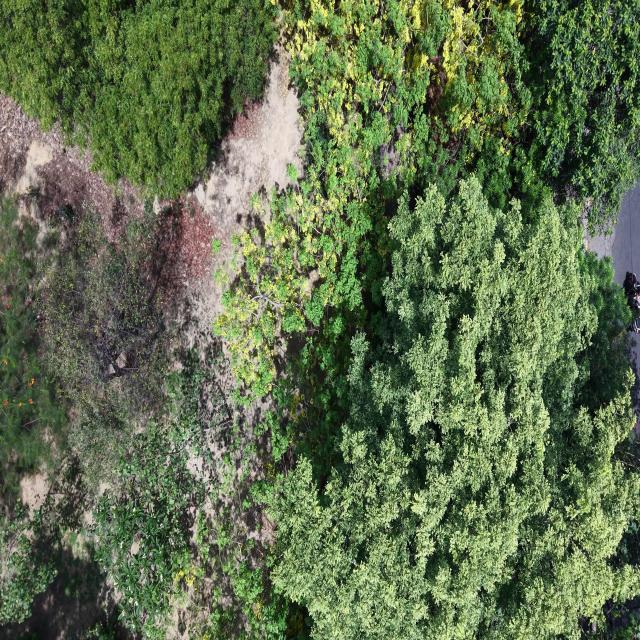DRY_AREA: (154, 50, 301, 329), (155, 48, 302, 327), (174, 50, 301, 289), (191, 48, 302, 246), (0, 95, 143, 242), (0, 94, 141, 239), (194, 52, 302, 237), (0, 94, 138, 219), (585, 183, 639, 287), (585, 183, 639, 286)
PATHWAYS: (586, 183, 639, 285)
VEGETATION_TREE: (0, 0, 639, 639), (218, 3, 637, 637), (270, 178, 638, 637), (272, 179, 638, 638), (219, 0, 639, 389), (0, 203, 291, 637), (219, 0, 529, 389), (280, 0, 639, 224), (0, 200, 170, 624), (95, 354, 297, 639), (0, 0, 275, 196), (73, 0, 275, 196), (41, 207, 172, 479), (96, 380, 206, 638), (0, 200, 65, 624), (524, 0, 639, 226), (0, 438, 100, 636), (0, 200, 64, 491), (576, 252, 632, 413), (0, 499, 57, 624), (613, 614, 639, 639)
